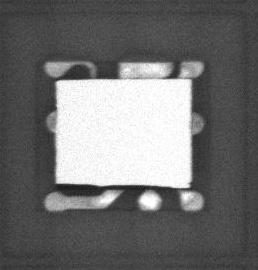DIE_BROKEN: (54, 181, 163, 188)
